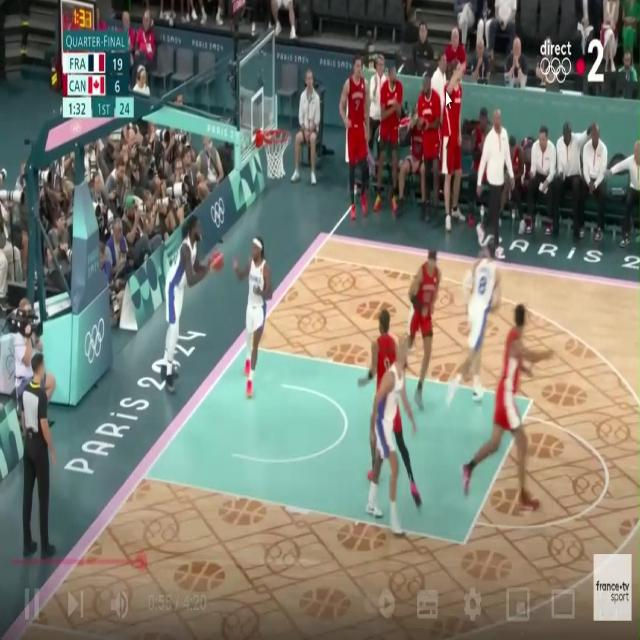ball_handler: (162, 216, 224, 393)
